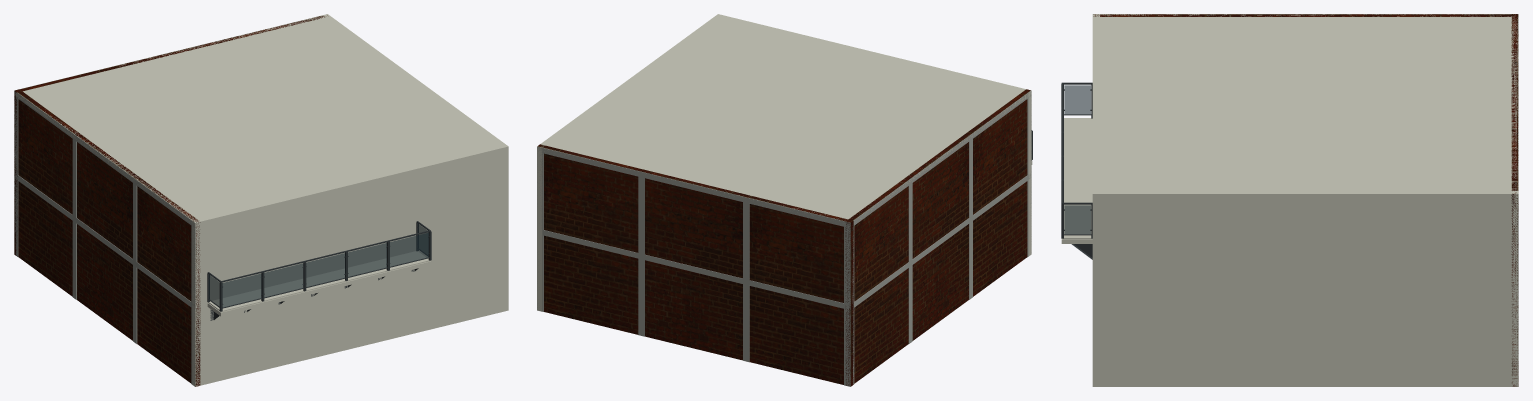
The model's file is building.glb.
3 views of the same model, side by side, from view 1: azimuth 30°, elevation 25°; view 2: azimuth 150°, elevation 25°; view 3: azimuth 270°, elevation 25° (orthographic). The views are drawn at different scales.
Parts seen in each view (by area): view 1: roof/house:0/roof_slab#0001, house:0/edge0/z0/house:0/edge0/z0/wall_0_0, house:0/edge3/z0/house:0/edge3/z0/wall_0_0, balcony/sample/balcony_platform#0001, house:0/edge2/z0/house:0/edge2/z0/wall_0_0, house:0/edge3/z0/house:0/edge3/z0/beam_0_0, house:0/edge3/z0/house:0/edge3/z0/beam_1_0, house:0/edge1/z0/house:0/edge1/z0/wall_0_0, balcony/sample/balcony_fascia#0001, balcony/sample/balcony_glass#0003, balcony/sample/balcony_glass#0004, balcony/sample/balcony_glass#0002 (+3 smaller); view 2: roof/house:0/roof_slab#0001, house:0/edge2/z0/house:0/edge2/z0/wall_0_0, house:0/edge3/z0/house:0/edge3/z0/wall_0_0, house:0/edge1/z0/house:0/edge1/z0/wall_0_0, house:0/edge2/z0/house:0/edge2/z0/beam_1_0, house:0/edge2/z0/house:0/edge2/z0/beam_0_0, house:0/edge0/z0/house:0/edge0/z0/wall_0_0, house:0/edge3/z0/house:0/edge3/z0/beam_0_0, house:0/edge3/z0/house:0/edge3/z0/beam_1_0, house:0/edge2/z0/house:0/edge2/z0/column_2_0, house:0/edge2/z0/house:0/edge2/z0/column_2_1, house:0/edge2/z0/house:0/edge2/z0/column_3_0 (+3 smaller); view 3: house:0/edge1/z0/house:0/edge1/z0/wall_0_0, roof/house:0/roof_slab#0001, balcony/sample/balcony_platform#0001, house:0/edge0/z0/house:0/edge0/z0/wall_0_0, house:0/edge2/z0/house:0/edge2/z0/wall_0_0, house:0/edge3/z0/house:0/edge3/z0/wall_0_0, balcony/sample/balcony_glass#0001, balcony/sample/balcony_glass#0007, balcony/sample/balcony_handrail#0001.
Boxes of the visible parts, bbox=[...] form: roof/house:0/roof_slab#0001: bbox=[15, 14, 506, 225]; house:0/edge0/z0/house:0/edge0/z0/wall_0_0: bbox=[192, 144, 508, 386]; house:0/edge3/z0/house:0/edge3/z0/wall_0_0: bbox=[17, 89, 200, 386]; balcony/sample/balcony_platform#0001: bbox=[208, 251, 429, 312]; house:0/edge2/z0/house:0/edge2/z0/wall_0_0: bbox=[14, 15, 327, 255]; house:0/edge3/z0/house:0/edge3/z0/beam_0_0: bbox=[14, 173, 195, 309]; house:0/edge3/z0/house:0/edge3/z0/beam_1_0: bbox=[14, 92, 195, 227]; house:0/edge1/z0/house:0/edge1/z0/wall_0_0: bbox=[323, 14, 508, 311]; balcony/sample/balcony_fascia#0001: bbox=[207, 261, 430, 316]; balcony/sample/balcony_glass#0003: bbox=[264, 263, 303, 297]; balcony/sample/balcony_glass#0004: bbox=[306, 253, 345, 286]; balcony/sample/balcony_glass#0002: bbox=[222, 273, 261, 307]; roof/house:0/roof_slab#0001: bbox=[540, 14, 1031, 223]; house:0/edge2/z0/house:0/edge2/z0/wall_0_0: bbox=[538, 144, 853, 386]; house:0/edge3/z0/house:0/edge3/z0/wall_0_0: bbox=[845, 89, 1030, 385]; house:0/edge1/z0/house:0/edge1/z0/wall_0_0: bbox=[537, 15, 722, 311]; house:0/edge2/z0/house:0/edge2/z0/beam_1_0: bbox=[538, 147, 850, 228]; house:0/edge2/z0/house:0/edge2/z0/beam_0_0: bbox=[542, 230, 850, 309]; house:0/edge0/z0/house:0/edge0/z0/wall_0_0: bbox=[717, 14, 1031, 256]; house:0/edge3/z0/house:0/edge3/z0/beam_0_0: bbox=[850, 172, 1031, 309]; house:0/edge3/z0/house:0/edge3/z0/beam_1_0: bbox=[850, 90, 1031, 227]; house:0/edge2/z0/house:0/edge2/z0/column_2_0: bbox=[638, 176, 644, 254]; house:0/edge2/z0/house:0/edge2/z0/column_2_1: bbox=[638, 258, 644, 336]; house:0/edge2/z0/house:0/edge2/z0/column_3_0: bbox=[743, 202, 749, 280]; house:0/edge1/z0/house:0/edge1/z0/wall_0_0: bbox=[1092, 191, 1518, 386]; roof/house:0/roof_slab#0001: bbox=[1092, 14, 1518, 198]; balcony/sample/balcony_platform#0001: bbox=[1063, 118, 1092, 239]; house:0/edge0/z0/house:0/edge0/z0/wall_0_0: bbox=[1092, 14, 1099, 386]; house:0/edge2/z0/house:0/edge2/z0/wall_0_0: bbox=[1511, 14, 1518, 386]; house:0/edge3/z0/house:0/edge3/z0/wall_0_0: bbox=[1093, 14, 1517, 16]; balcony/sample/balcony_glass#0001: bbox=[1064, 85, 1090, 114]; balcony/sample/balcony_glass#0007: bbox=[1064, 205, 1090, 234]; balcony/sample/balcony_handrail#0001: bbox=[1061, 82, 1092, 204].
Bounding box in the file's own units: 12 × 6 × 12.89.
5 materials, 1 textured.
